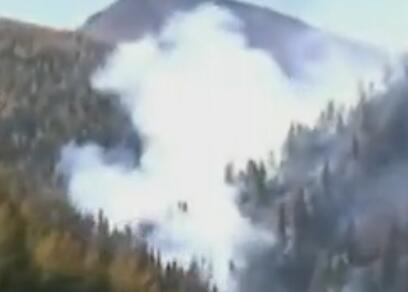yanwu: (54, 0, 384, 288)
